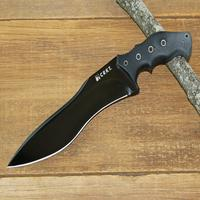knife: (3, 32, 174, 174)
